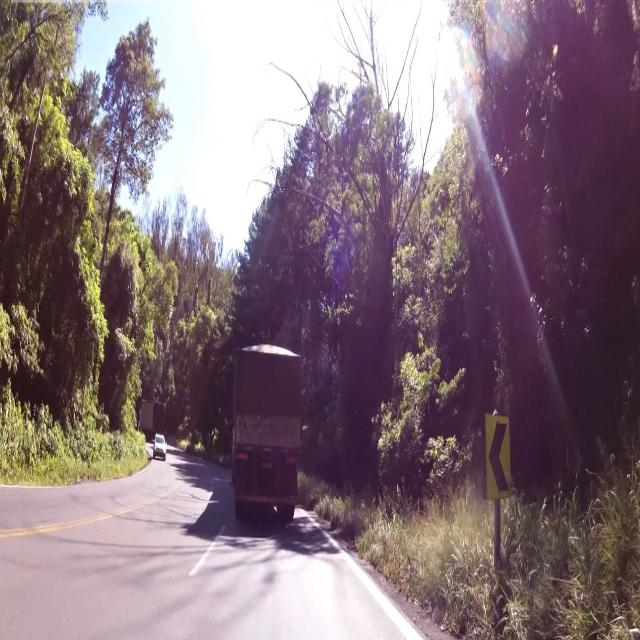E-5: (484, 412, 514, 500)
